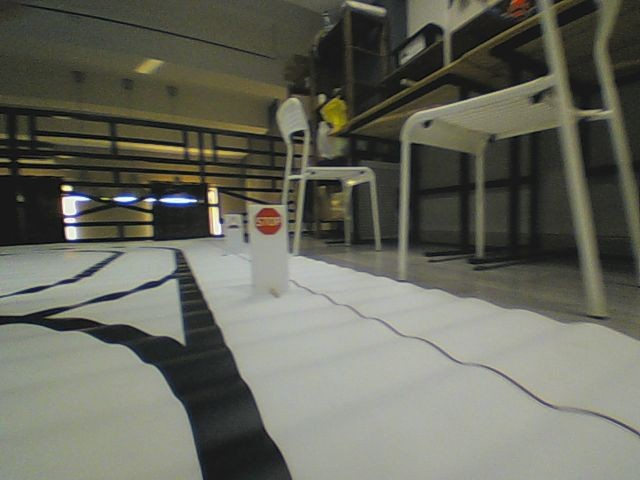Stop: (253, 206, 283, 237)
